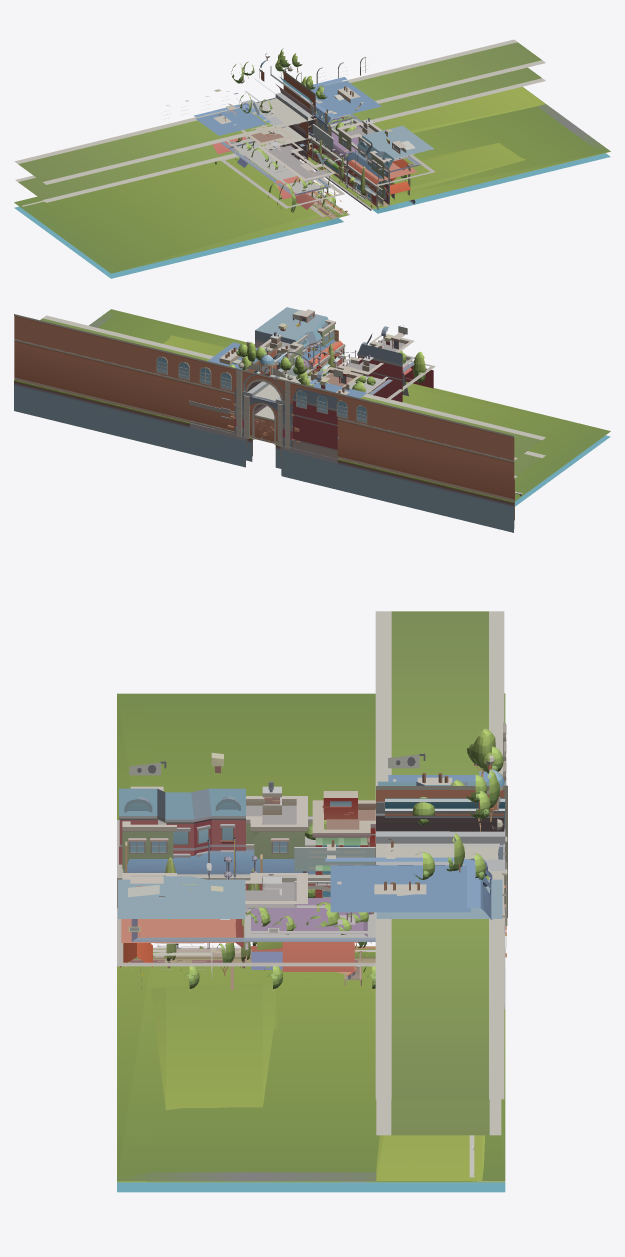
Rendered from Enviroment_Flattened.glb.
3 renders of one model, top to bottom at view 1: azimuth 30°, elevation 25°; view 2: azimuth 150°, elevation 25°; view 3: azimuth 270°, elevation 25°, orthographic. The views are drawn at different scales.
Visible parts, largest first — view 1: Tom1_ParkSet01_30.prefab, CityTunnel_05a_Addon.prefab, CityArchAddon.prefab, Tom1_CityParkSet01_30.prefab, Tom1_SideArchSet01_30.prefab, Tom1_CityShopSet01_30.prefab, Tom1_ParkRiverSet02_30.prefab, Tom1_ParkRiverBridgeSetStart_30.prefab, Tom1_ParkSet01_10.prefab, Tom1_parkRiverSet01_10.prefab, Tom1_CityResidentalSet01_30.prefab, Tom1_CityShopSet01_10.prefab (+6 smaller); view 2: CityTunnel_05a_Addon.prefab, Tom1_CityResidentalSet01_30.prefab, CityTunnel_08_Addon.prefab, Tom1_ParkSet01_30.prefab, Tom1_CityResidentalSet01_10.prefab, Tom1_CityParkSet01_30.prefab, tom1_SuburbanSet02_30.prefab, Tom1_SideArchSet01_30.prefab, Tom1_CityShopSet01_30.prefab, CityTunnel_08.prefab, CityTunnelInsideMiddleSet_08_10.prefab, Tom1_SideArchSet01_10.prefab (+6 smaller); view 3: Tom1_ParkSet01_30.prefab, CityTunnel_05a_Addon.prefab, Tom1_CityResidentalSet01_30.prefab, Tom1_ParkRiverSet02_30.prefab, Tom1_CityParkSet01_30.prefab, Tom1_CityShopSet01_30.prefab, Tom1_SideArchSet01_30.prefab, Tom1_parkRiverSet01_10.prefab, CityArchAddon.prefab, CityTunnelInsideMiddleSet_08_10.prefab, tom1_SuburbanSet02_30.prefab, Tom1_ParkRiverBridgeSetStart_30.prefab (+6 smaller).
Part boxes in pixels (x1,y1,x2,y2): Tom1_ParkSet01_30.prefab: (29,106,606,272); CityTunnel_05a_Addon.prefab: (14,39,545,184); CityArchAddon.prefab: (15,67,545,202); Tom1_CityParkSet01_30.prefab: (47,77,414,273); Tom1_SideArchSet01_30.prefab: (220,114,435,214); Tom1_CityShopSet01_30.prefab: (214,104,417,217); Tom1_ParkRiverSet02_30.prefab: (268,120,610,215); Tom1_ParkRiverBridgeSetStart_30.prefab: (22,141,610,278); Tom1_ParkSet01_10.prefab: (34,149,308,221); Tom1_parkRiverSet01_10.prefab: (207,87,545,164); Tom1_CityResidentalSet01_30.prefab: (111,81,610,273); Tom1_CityShopSet01_10.prefab: (194,103,334,157); CityTunnel_05a_Addon.prefab: (14,315,545,501); Tom1_CityResidentalSet01_30.prefab: (14,307,513,529); CityTunnel_08_Addon.prefab: (14,314,514,520); Tom1_ParkSet01_30.prefab: (98,310,610,473); Tom1_CityResidentalSet01_10.prefab: (14,362,514,528); Tom1_CityParkSet01_30.prefab: (207,309,610,502); tom1_SuburbanSet02_30.prefab: (14,351,513,532); Tom1_SideArchSet01_30.prefab: (189,321,435,456); Tom1_CityShopSet01_30.prefab: (207,332,414,470); CityTunnel_08.prefab: (238,342,292,402); CityTunnelInsideMiddleSet_08_10.prefab: (235,351,316,447); Tom1_SideArchSet01_10.prefab: (14,380,545,501); Tom1_ParkSet01_30.prefab: (117,694,475,1181); CityTunnel_05a_Addon.prefab: (375,611,507,1099); Tom1_CityResidentalSet01_30.prefab: (117,745,505,1181); Tom1_ParkRiverSet02_30.prefab: (117,856,504,1182); Tom1_CityParkSet01_30.prefab: (117,693,492,957); Tom1_CityShopSet01_30.prefab: (121,781,505,992); Tom1_SideArchSet01_30.prefab: (117,816,505,1004); Tom1_parkRiverSet01_10.prefab: (376,1135,485,1180); CityArchAddon.prefab: (376,1099,501,1135); CityTunnelInsideMiddleSet_08_10.prefab: (376,798,505,870); tom1_SuburbanSet02_30.prefab: (120,926,354,989); Tom1_ParkRiverBridgeSetStart_30.prefab: (117,855,504,1192).
Bounding box in the file's own units: 89.21 × 20.98 × 30.23.
